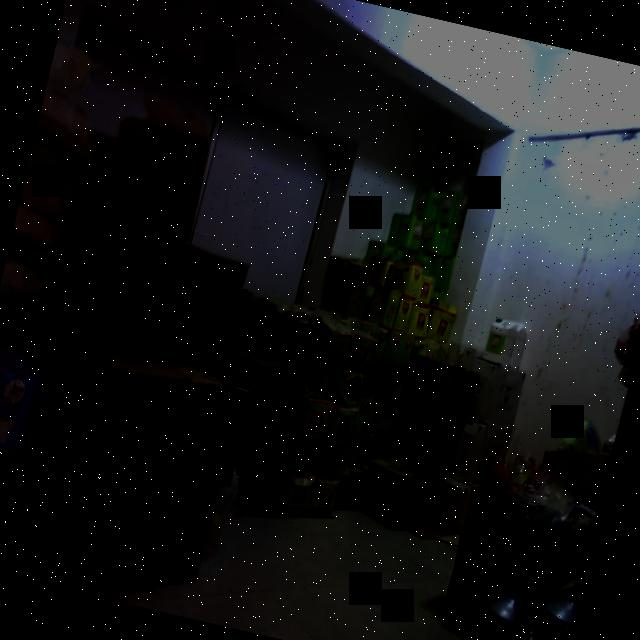box: (49, 213, 164, 360), (100, 114, 216, 242), (150, 238, 248, 376), (84, 361, 184, 490), (53, 475, 149, 599)
